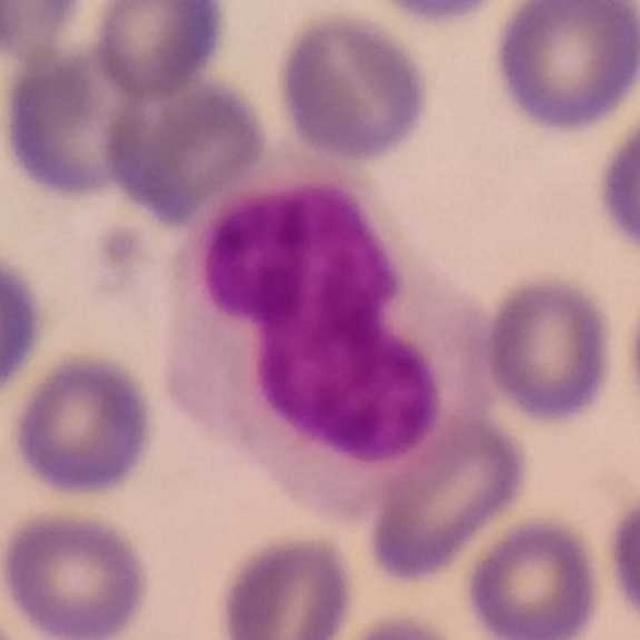Monocyte: (152, 165, 488, 508)
RBC: (360, 406, 536, 587), (98, 69, 273, 224), (269, 5, 436, 166), (0, 41, 152, 203), (7, 348, 160, 502), (480, 270, 621, 428), (0, 503, 156, 640), (486, 0, 640, 137), (460, 511, 608, 640), (211, 527, 360, 640), (87, 0, 234, 102), (0, 241, 51, 408), (591, 91, 640, 263), (601, 484, 640, 635), (321, 607, 485, 640), (0, 0, 90, 60), (352, 0, 528, 28), (620, 268, 640, 440), (0, 596, 35, 640)
